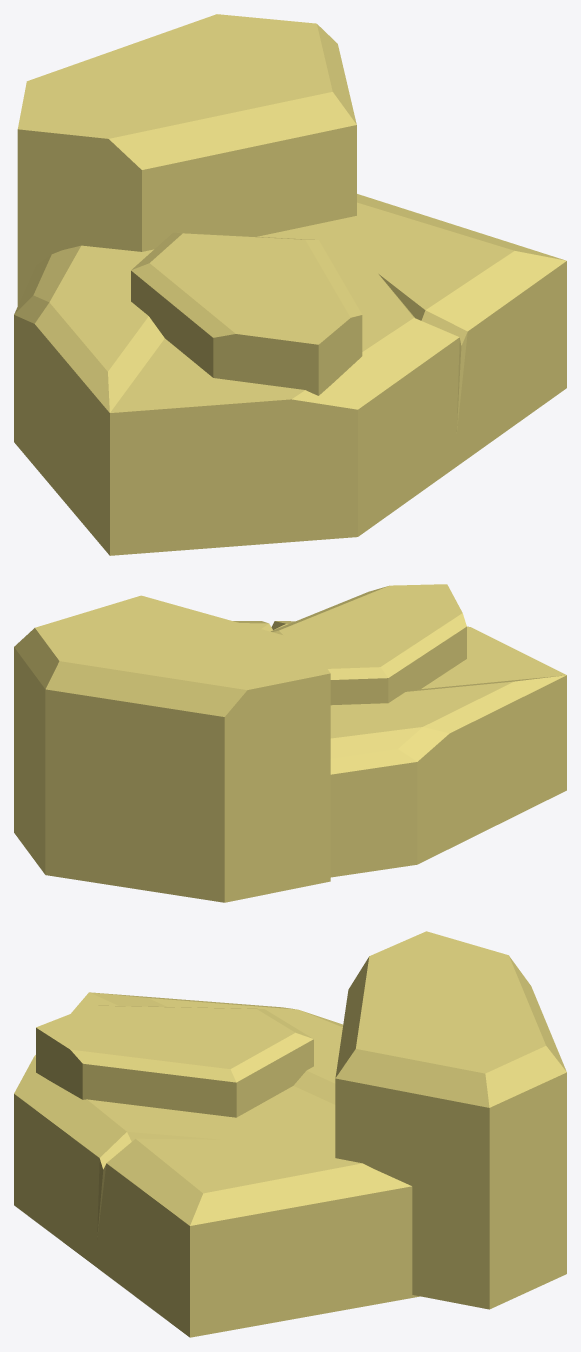
The model's file is RockType1 03.fbx.
3 views of the same model, one above another, from view 1: azimuth 30°, elevation 25°; view 2: azimuth 150°, elevation 25°; view 3: azimuth 270°, elevation 25° (orthographic). The views are drawn at different scales.
Visible parts, largest first — view 1: Rock Type1 03 mesh; view 2: Rock Type1 03 mesh; view 3: Rock Type1 03 mesh.
Part boxes in pixels (box(x1,y1,x2,y2)): Rock Type1 03 mesh: box(14, 14, 566, 555); Rock Type1 03 mesh: box(14, 584, 566, 902); Rock Type1 03 mesh: box(14, 931, 566, 1337).
Bounding box in the file's own units: 147 × 71.42 × 156.
